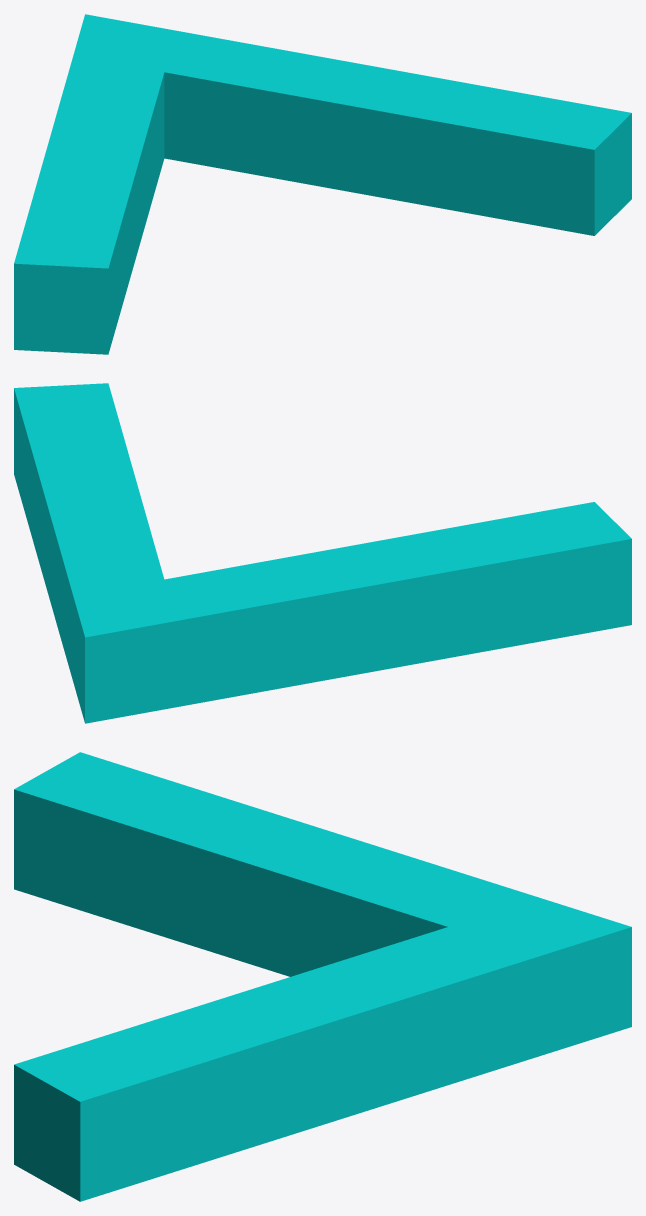
The model's file is arrow-rishabhmishra.gltf.
The picture shows the model from 3 angles, top to bottom: view 1: azimuth 30°, elevation 25°; view 2: azimuth 150°, elevation 25°; view 3: azimuth 270°, elevation 25°; orthographic projection. The views are drawn at different scales.
Parts seen in each view (by area): view 1: node-0; view 2: node-0; view 3: node-0.
Part boxes in pixels (bbox=[...]): node-0: bbox=[14, 14, 631, 354]; node-0: bbox=[14, 383, 631, 723]; node-0: bbox=[14, 752, 631, 1201].
Size of the model in its own units: 150 by 20 by 112.
